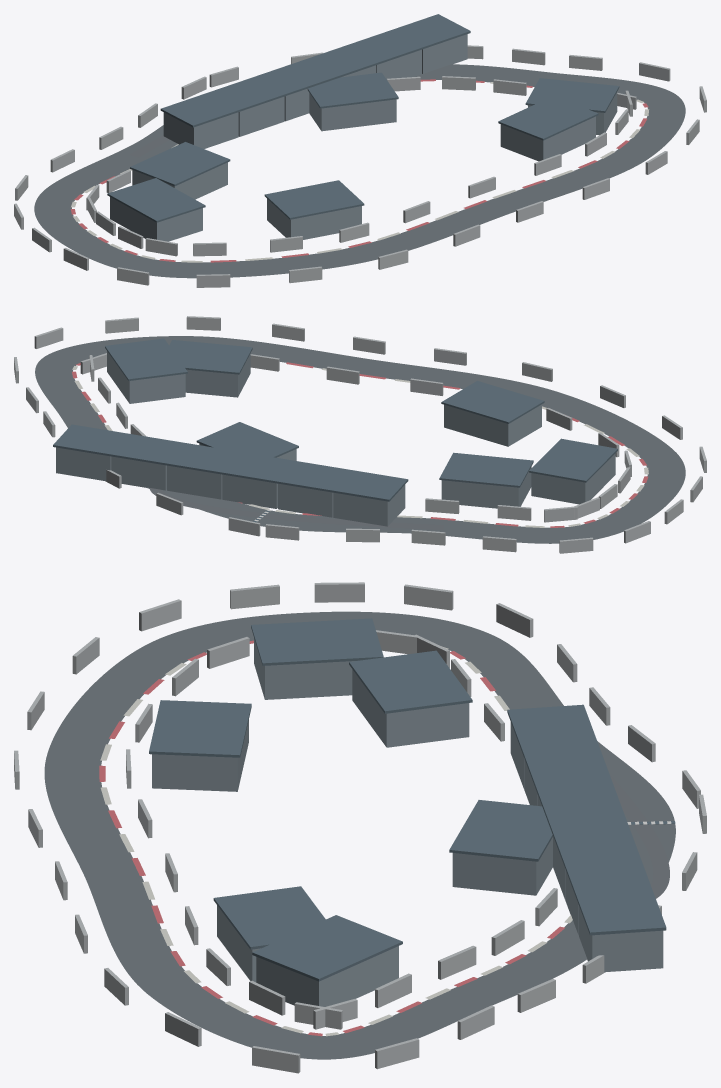
The picture shows the model from 3 angles, top to bottom: view 1: azimuth 30°, elevation 25°; view 2: azimuth 150°, elevation 25°; view 3: azimuth 270°, elevation 25°; orthographic projection. The views are drawn at different scales.
Parts seen in each view (by area): view 1: asphalt, grandstand_roof_3, grandstand_roof_4, grandstand_roof_5, grandstand_roof_2, grandstand_roof_0, grandstand_roof_1, grandstand_2, grandstand_4, grandstand_3, grandstand_0, pit_building_0 (+23 smaller); view 2: asphalt, grandstand_roof_3, grandstand_roof_5, grandstand_roof_4, grandstand_roof_1, grandstand_3, grandstand_roof_2, grandstand_roof_0, grandstand_5, grandstand_4, pit_building_0, grandstand_1 (+35 smaller); view 3: asphalt, grandstand_roof_1, grandstand_roof_4, grandstand_roof_5, grandstand_roof_3, grandstand_roof_0, grandstand_1, grandstand_roof_2, grandstand_5, grandstand_0, pit_roof_5, grandstand_4 (+25 smaller).
Boxes of the visible parts, <box> form: asphalt: <box>34,64,685,278</box>; grandstand_roof_3: <box>264,180,364,219</box>; grandstand_roof_4: <box>107,178,205,222</box>; grandstand_roof_5: <box>130,142,230,186</box>; grandstand_roof_2: <box>498,97,598,140</box>; grandstand_roof_0: <box>307,72,398,108</box>; grandstand_roof_1: <box>525,78,619,112</box>; grandstand_2: <box>500,116,595,161</box>; grandstand_4: <box>110,197,202,241</box>; grandstand_3: <box>267,199,361,239</box>; grandstand_0: <box>309,93,396,131</box>; pit_building_0: <box>163,112,238,148</box>; asphalt: <box>35,336,685,543</box>; grandstand_roof_3: <box>441,381,544,423</box>; grandstand_roof_5: <box>439,452,533,487</box>; grandstand_roof_4: <box>529,438,617,482</box>; grandstand_roof_1: <box>105,338,187,380</box>; grandstand_3: <box>444,404,541,446</box>; grandstand_roof_2: <box>159,340,252,374</box>; grandstand_roof_0: <box>196,422,298,457</box>; grandstand_5: <box>441,466,531,508</box>; grandstand_4: <box>531,453,615,504</box>; pit_building_0: <box>333,485,405,526</box>; grandstand_1: <box>107,351,185,403</box>; asphalt: <box>44,611,675,1059</box>; grandstand_roof_1: <box>252,915,402,981</box>; grandstand_roof_4: <box>251,618,383,665</box>; grandstand_roof_5: <box>349,650,472,713</box>; grandstand_roof_3: <box>149,700,251,757</box>; grandstand_roof_0: <box>449,800,552,861</box>; grandstand_1: <box>256,946,398,1006</box>; grandstand_roof_2: <box>213,886,334,949</box>; grandstand_5: <box>352,669,469,747</box>; grandstand_0: <box>452,837,552,895</box>; pit_roof_5: <box>576,888,666,935</box>; grandstand_4: <box>254,638,354,699</box>.
Bounding box in the file's own units: 62.32 × 2.64 × 38.57.
